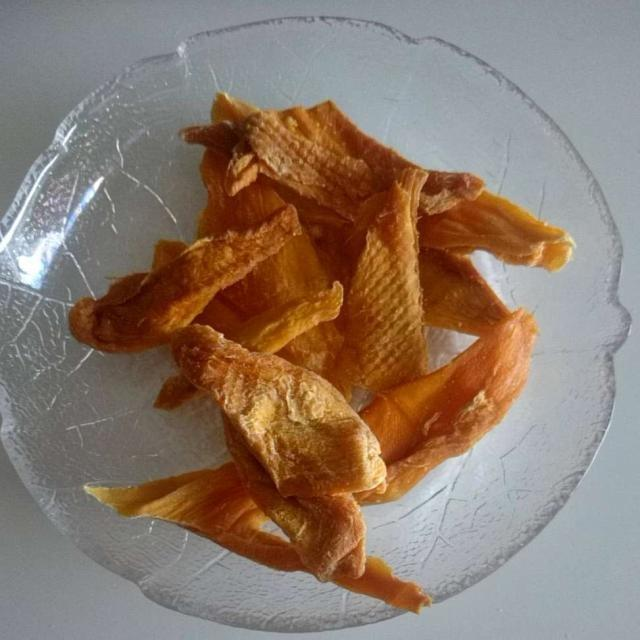mango-dried: (74, 103, 558, 602)
